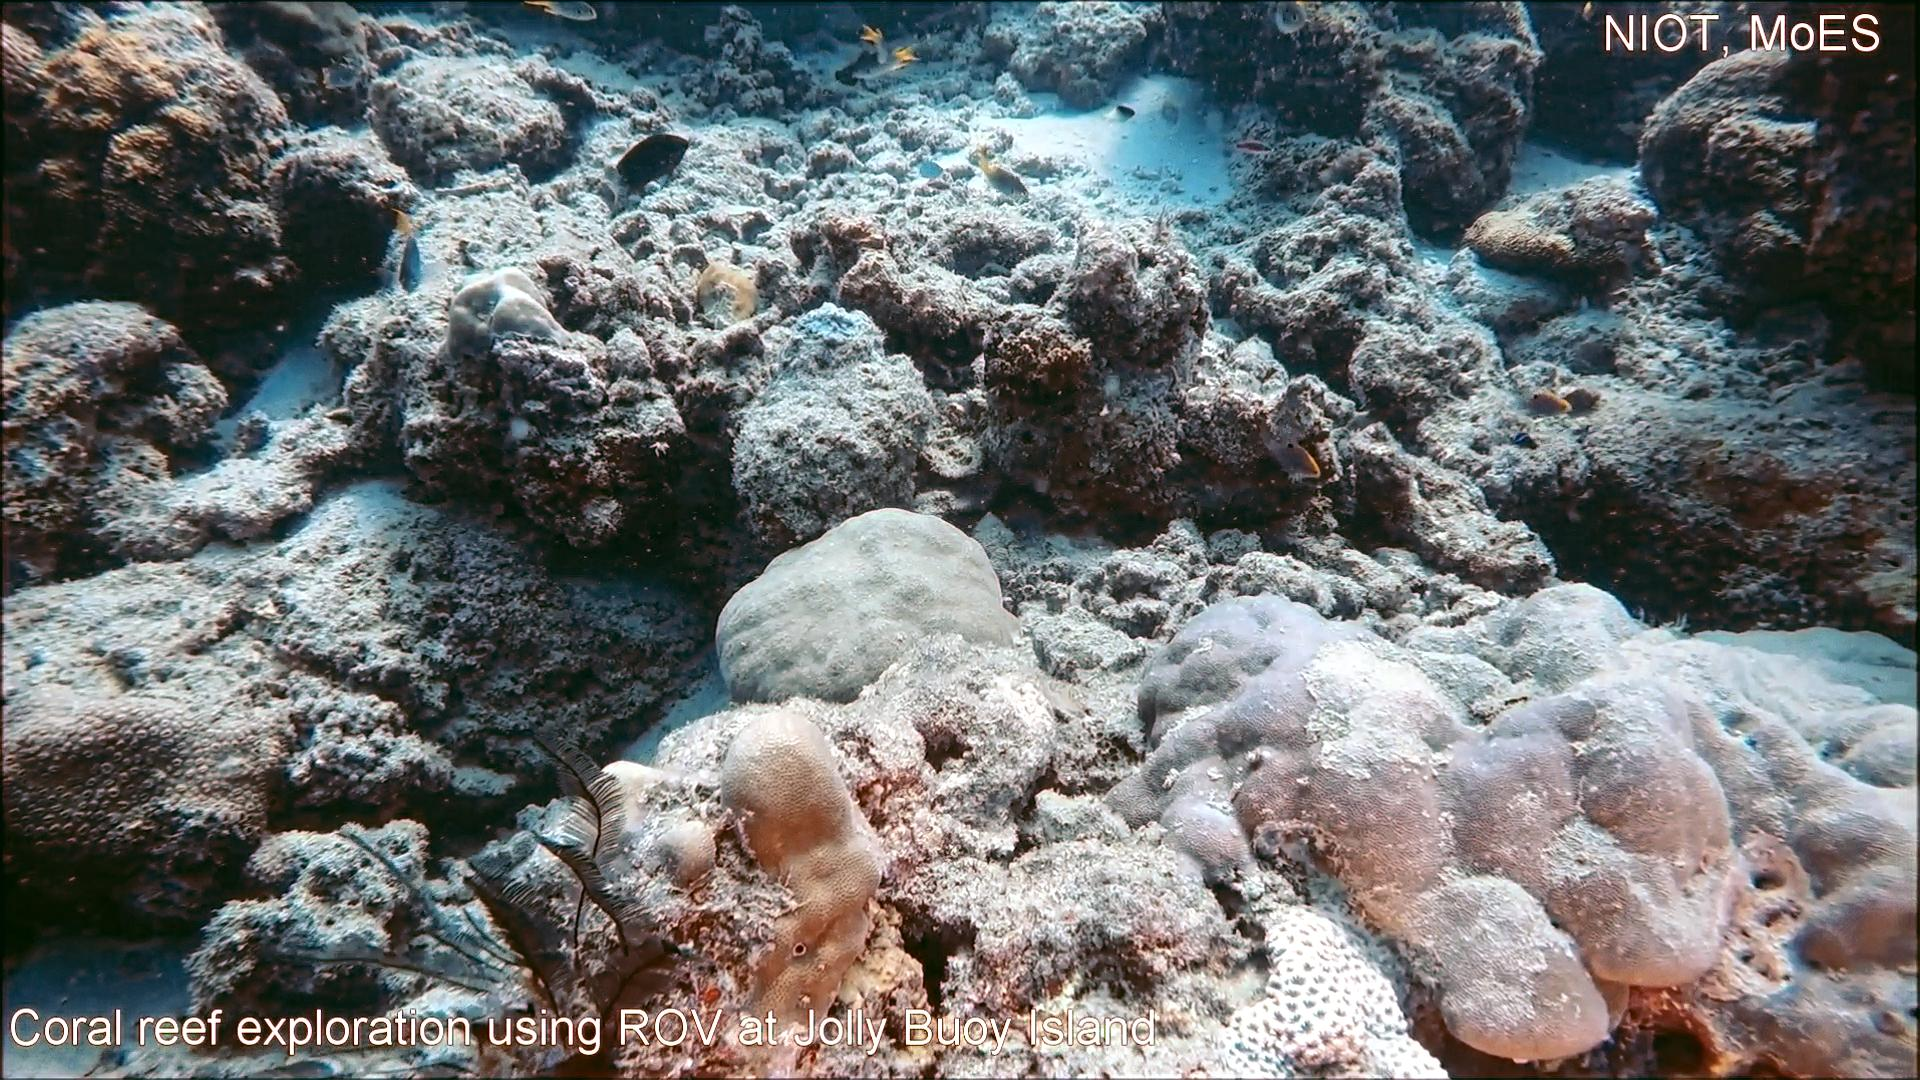Feather star-Crinoid star: (248, 715, 698, 1080)
Goniastrea-Goniastrea pectinata: (1215, 897, 1460, 1080)
Porites-Porites pukoensis: (1582, 576, 1920, 1080)
Turbinaria-Turbinaria stellulata: (0, 680, 291, 864)
